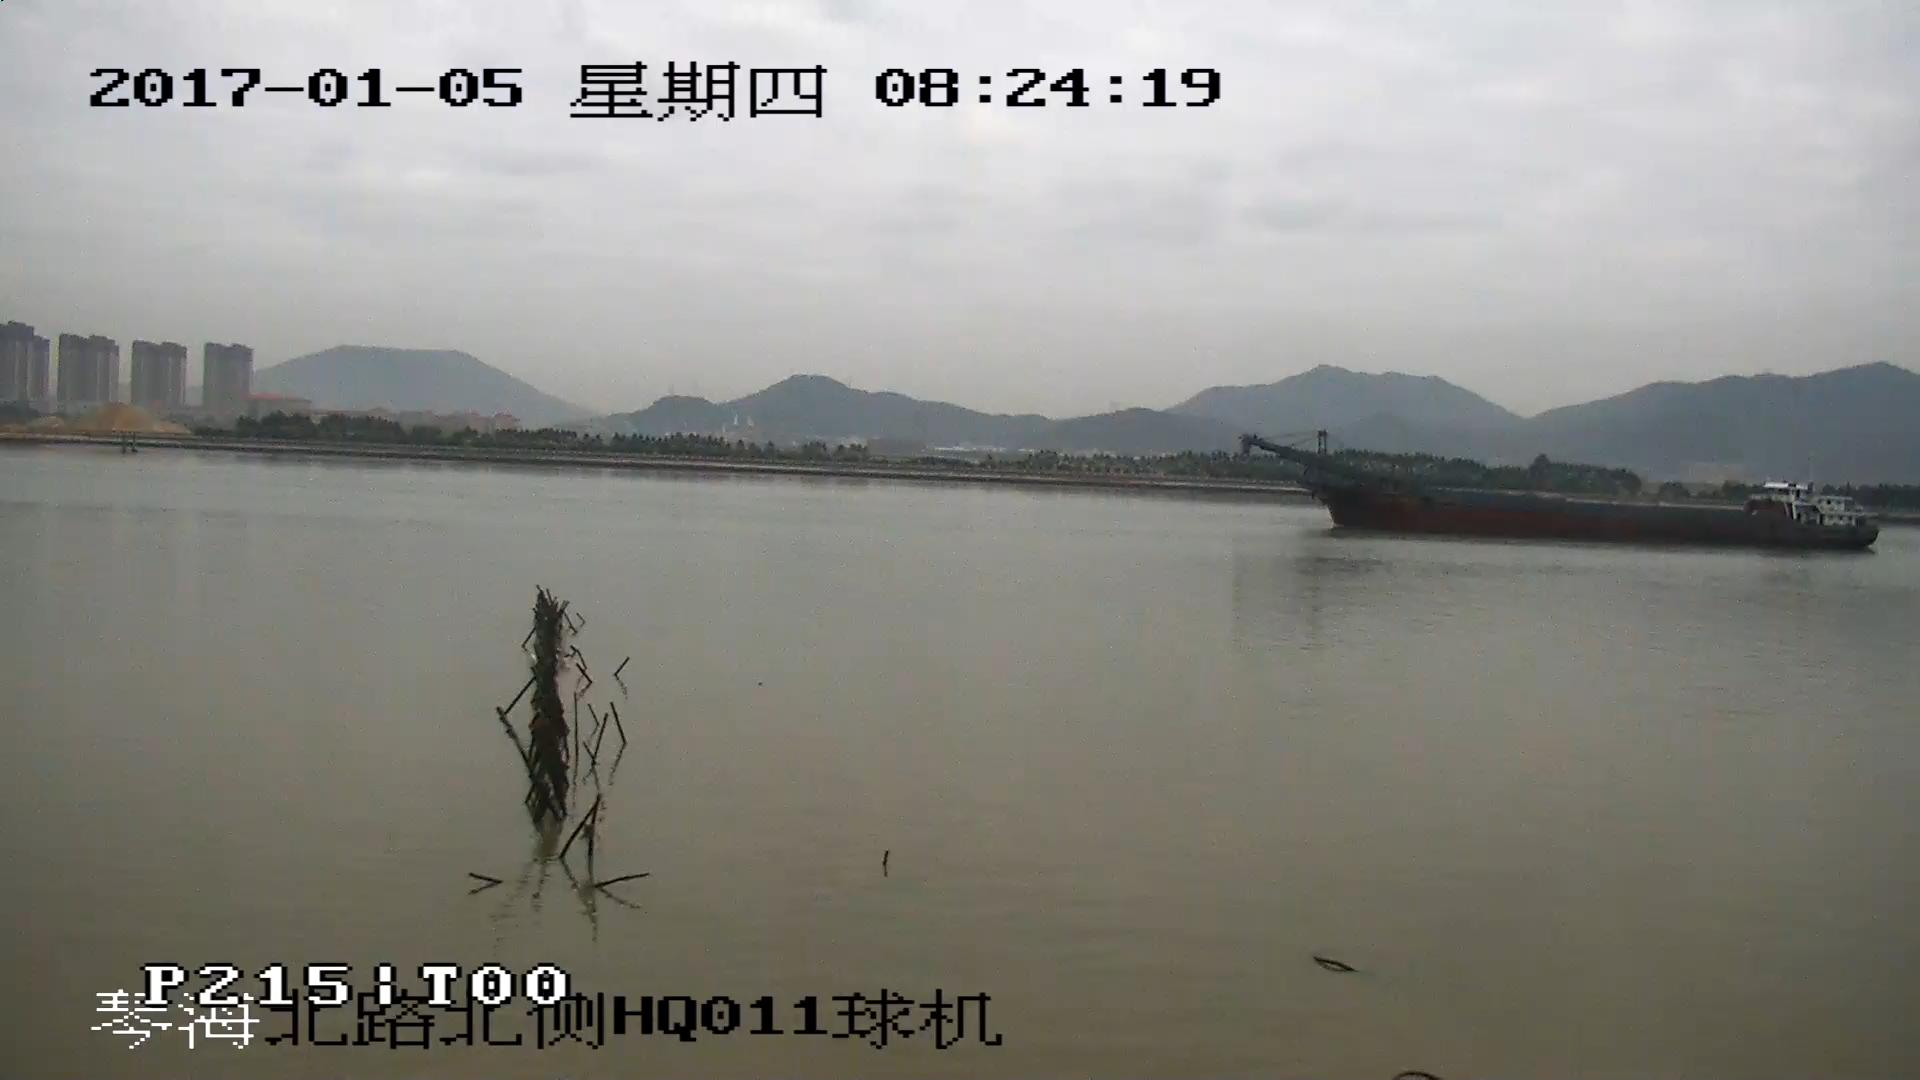bulk cargo carrier: (1243, 435, 1878, 551)
